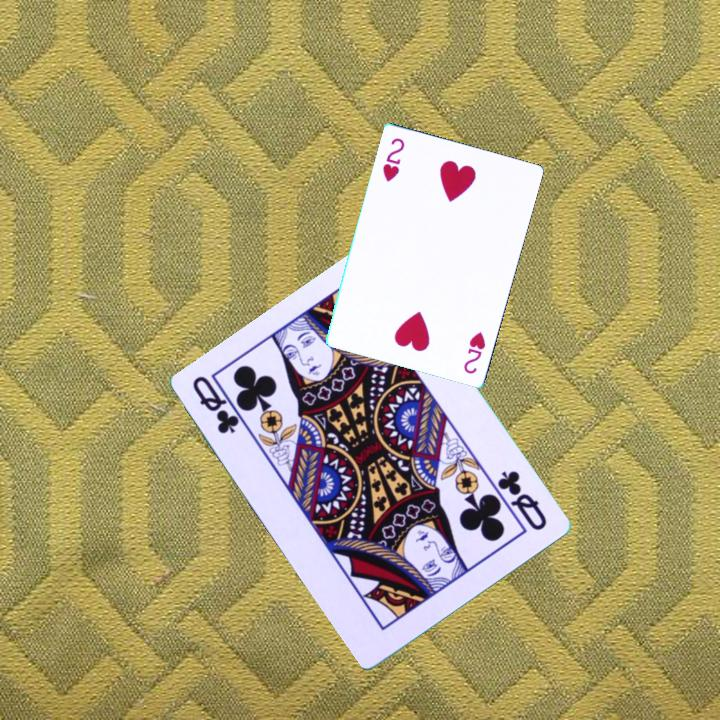2h: (379, 134, 407, 184), (460, 328, 488, 376)
Qc: (487, 466, 551, 534), (189, 372, 245, 438)
